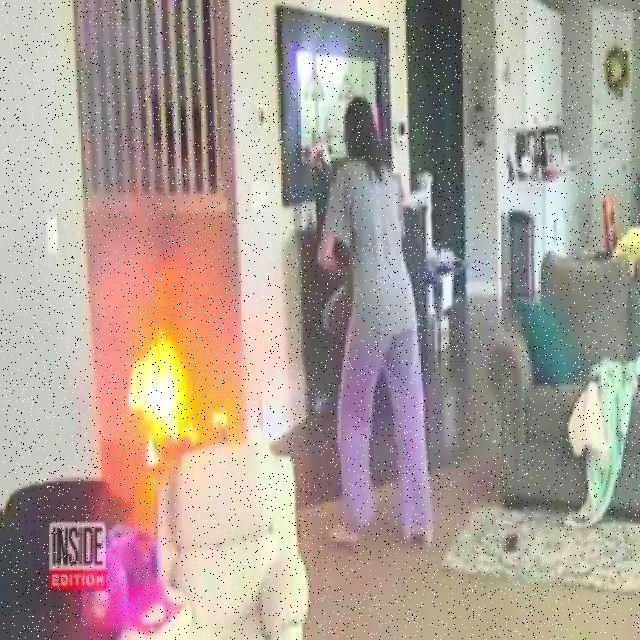smoke: (128, 326, 202, 452)
